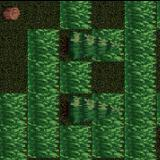Obstacle: (60, 93, 92, 125), (61, 28, 92, 61), (0, 0, 28, 28)
Slow: (125, 0, 156, 160), (28, 28, 58, 157), (92, 91, 125, 158), (0, 93, 27, 160), (60, 125, 92, 160), (92, 28, 125, 61), (60, 60, 92, 92), (59, 0, 92, 27)
